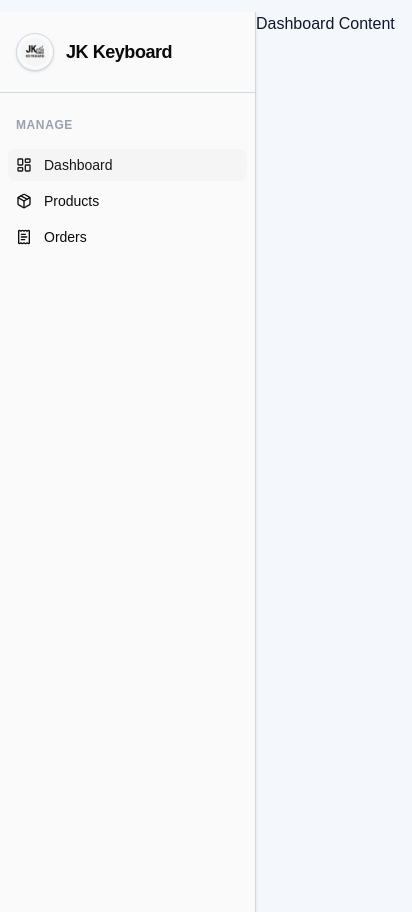
Test: AdminSidebar Component › navigates and updates active state when clicking a menu link
Click the link "Orders" at (51, 237), box x1=16 y1=229 x2=87 y2=245
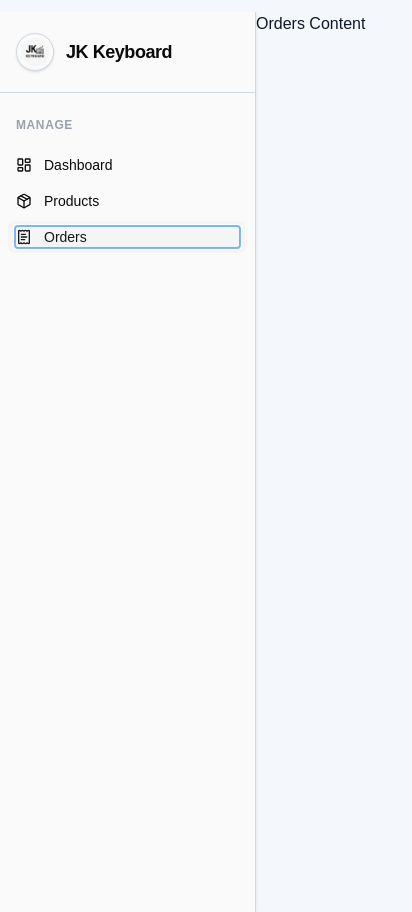
Expected: the text "Orders Content" is shown, x1=256 y1=15 x2=365 y2=32
